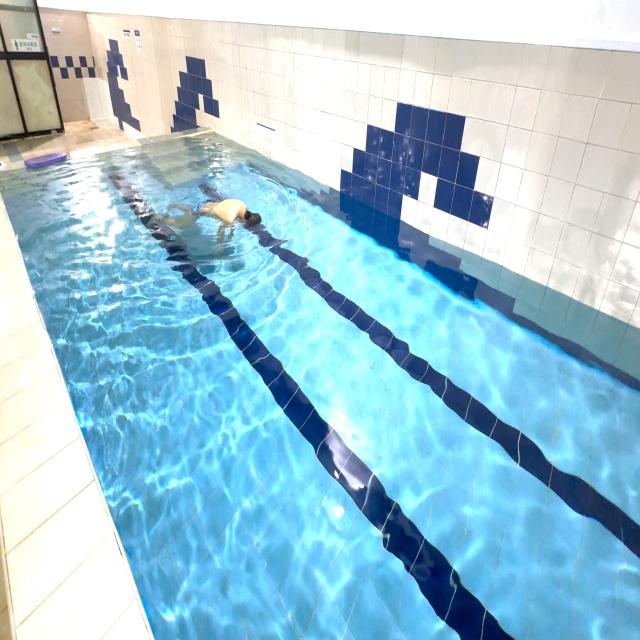Swimming: (157, 172, 268, 262)
